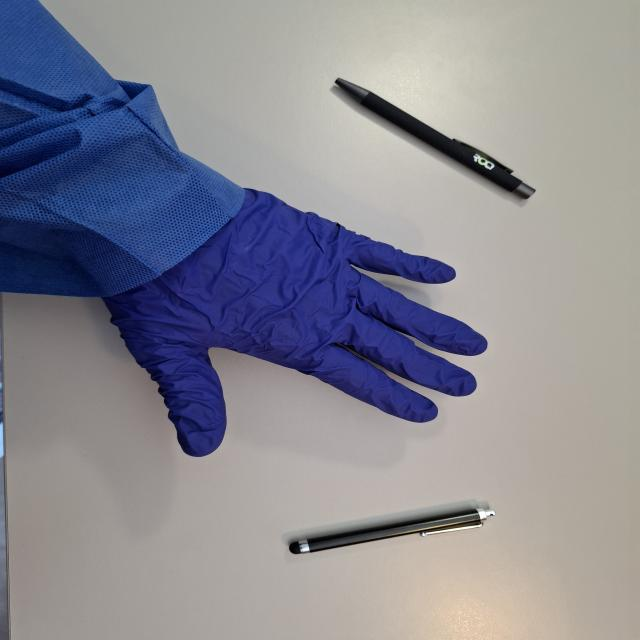glove_on: (88, 185, 491, 456)
